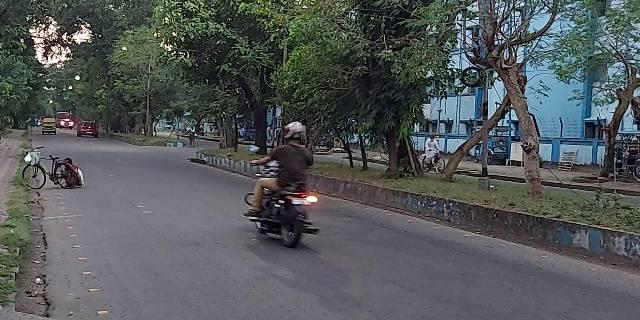Cycle: (20, 149, 80, 192)
Motorbike: (243, 122, 317, 250)
